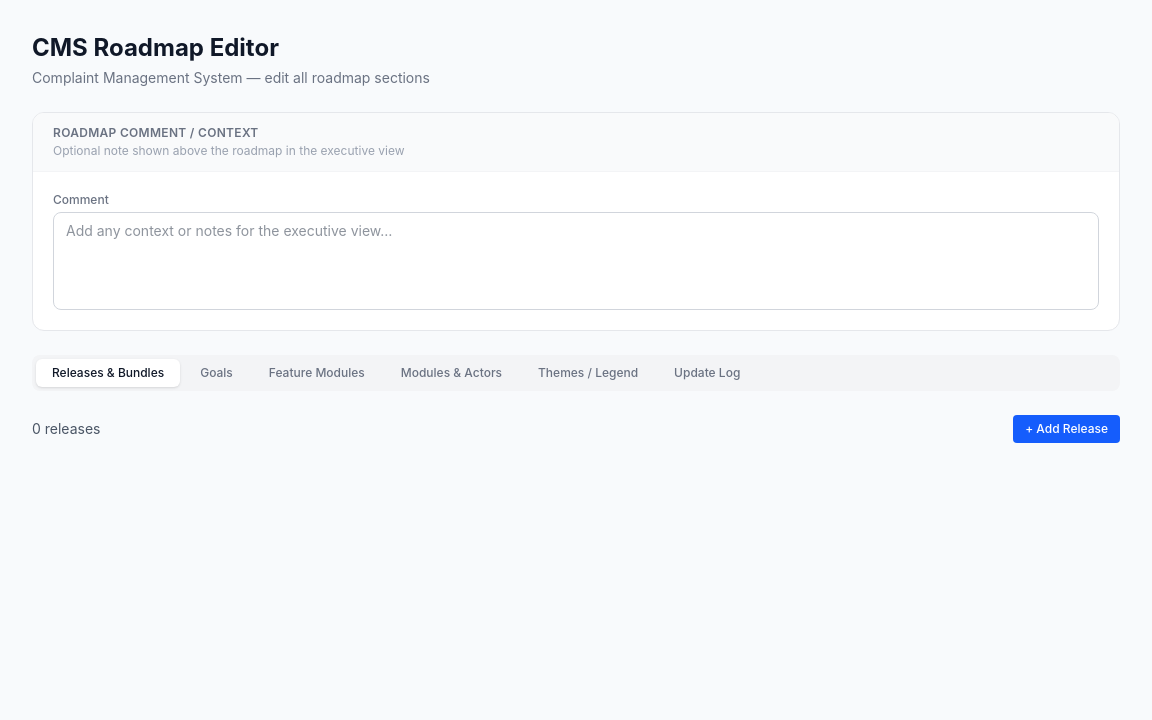
Test: ComplaintsRoadmapEditor (via RoadmapEditor with cms slug) › T-50.07: clicking Modules & Actors tab shows master modules content
Click the button "Modules & Actors" at (451, 373), box left=385, top=359, right=518, bottom=387
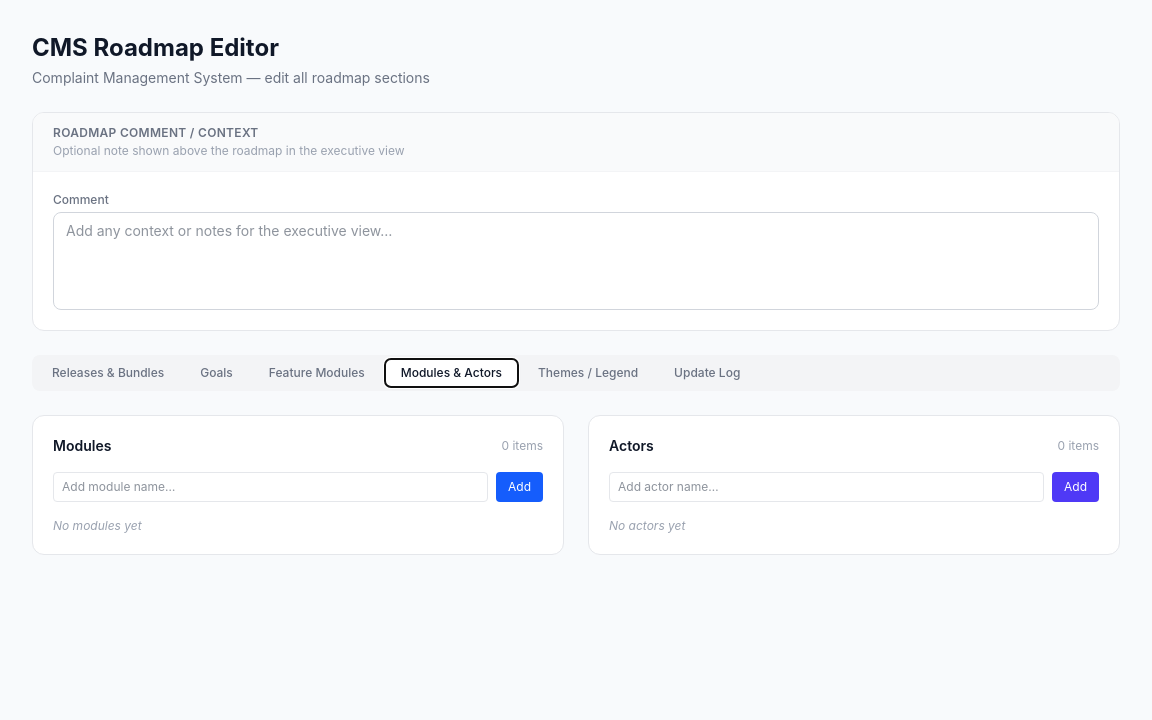
expect the field with placeholder "Add module name…" is shown: met, box left=53, top=472, right=488, bottom=502
